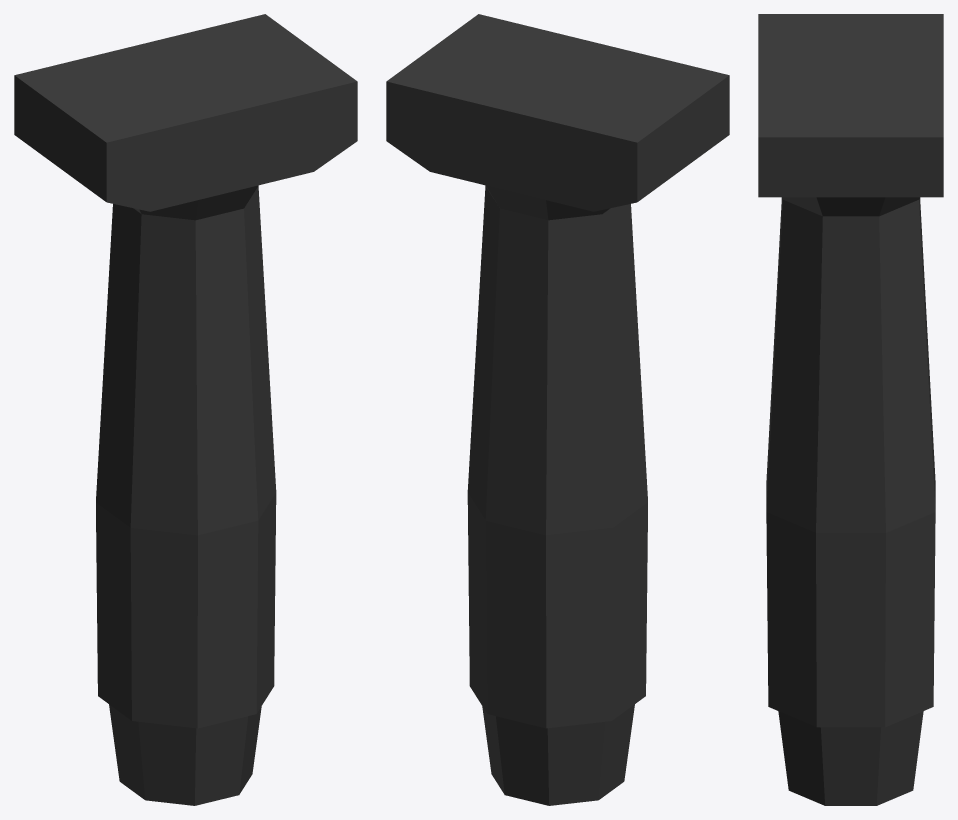
File: Mod_04.fbx
The picture shows the model from 3 angles, left to right: view 1: azimuth 30°, elevation 25°; view 2: azimuth 150°, elevation 25°; view 3: azimuth 270°, elevation 25°; orthographic projection.
Visible parts, largest first — view 1: Mod_04; view 2: Mod_04; view 3: Mod_04.
Part boxes in pixels (x1,y1,x2,y2): Mod_04: [14, 14, 357, 805]; Mod_04: [386, 14, 729, 805]; Mod_04: [758, 14, 943, 805].
Bounding box in the file's own units: 0.0549 × 0.1463 × 0.0349.
